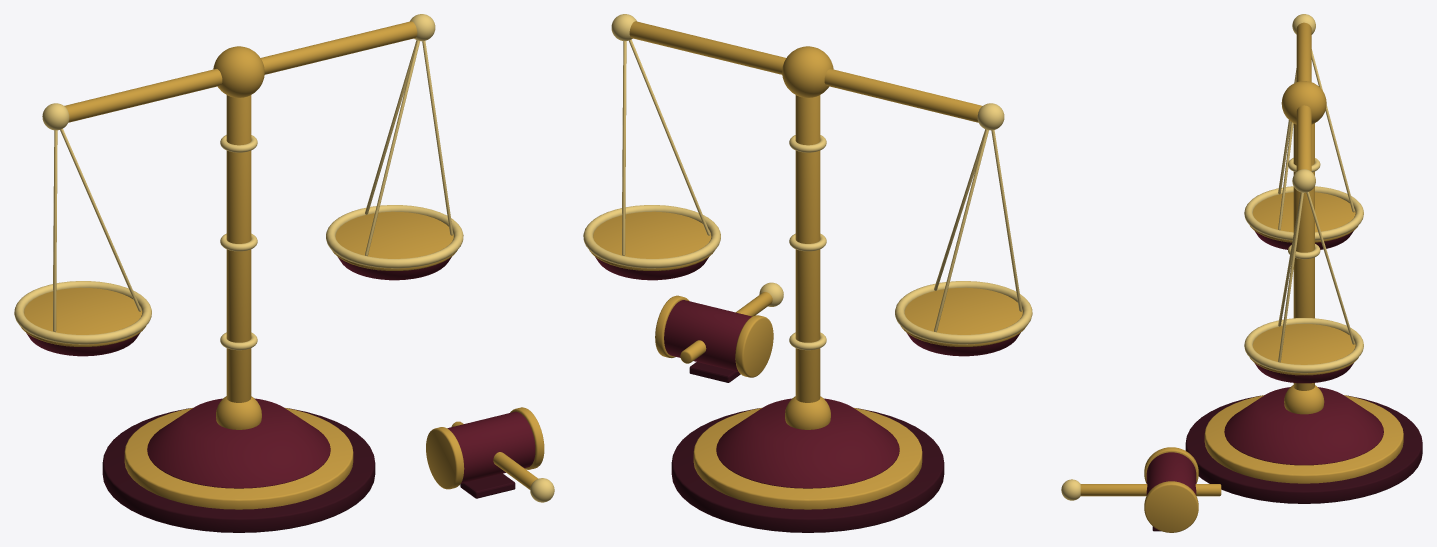
The model's file is legal.glb.
3 views of the same model, side by side, from view 1: azimuth 30°, elevation 25°; view 2: azimuth 150°, elevation 25°; view 3: azimuth 270°, elevation 25° (orthographic). The views are drawn at different scales.
Parts seen in each view (by area): view 1: Plinth, Base_Plate, Base_Ring, Column, Beam, Pan_1, Pan_-1, Gavel_Head, Pan_Rim_-1, Pan_Rim_1, Fulcrum, Gavel_Band_-0.17 (+11 smaller); view 2: Plinth, Base_Plate, Base_Ring, Column, Beam, Pan_1, Pan_-1, Gavel_Head, Pan_Rim_1, Pan_Rim_-1, Fulcrum, Gavel_Band_-0.17 (+12 smaller); view 3: Plinth, Base_Plate, Base_Ring, Pan_1, Column, Pan_-1, Gavel_Band_0.17, Pan_Rim_1, Beam, Pan_Rim_-1, Gavel_Head, Fulcrum (+8 smaller).
Part boxes in pixels (x1=…): Plinth: x1=147, y1=398, x2=330, y2=488; Base_Plate: x1=102, y1=408, x2=375, y2=532; Base_Ring: x1=124, y1=407, x2=353, y2=509; Column: x1=226, y1=95, x2=251, y2=402; Beam: x1=64, y1=21, x2=417, y2=122; Pan_1: x1=332, y1=211, x2=457, y2=270; Pan_-1: x1=20, y1=287, x2=145, y2=346; Gavel_Head: x1=447, y1=411, x2=535, y2=483; Pan_Rim_-1: x1=14, y1=281, x2=151, y2=344; Pan_Rim_1: x1=326, y1=205, x2=463, y2=268; Fulcrum: x1=213, y1=46, x2=264, y2=97; Gavel_Band_-0.17: x1=426, y1=427, x2=464, y2=489; Plinth: x1=716, y1=398, x2=899, y2=488; Base_Plate: x1=671, y1=408, x2=944, y2=532; Base_Ring: x1=693, y1=407, x2=922, y2=509; Column: x1=795, y1=95, x2=820, y2=402; Beam: x1=629, y1=21, x2=981, y2=122; Pan_1: x1=589, y1=211, x2=714, y2=270; Pan_-1: x1=901, y1=287, x2=1026, y2=346; Gavel_Head: x1=664, y1=300, x2=751, y2=371; Pan_Rim_1: x1=583, y1=205, x2=720, y2=268; Pan_Rim_-1: x1=895, y1=281, x2=1032, y2=344; Fulcrum: x1=782, y1=46, x2=833, y2=97; Gavel_Band_-0.17: x1=735, y1=315, x2=773, y2=377; Plinth: x1=1224, y1=387, x2=1383, y2=465; Base_Plate: x1=1185, y1=395, x2=1422, y2=503; Base_Ring: x1=1204, y1=395, x2=1403, y2=483; Pan_1: x1=1249, y1=324, x2=1358, y2=375; Column: x1=1293, y1=123, x2=1314, y2=390; Pan_-1: x1=1250, y1=192, x2=1358, y2=242; Gavel_Band_0.17: x1=1144, y1=481, x2=1198, y2=532; Pan_Rim_1: x1=1244, y1=318, x2=1363, y2=373; Beam: x1=1296, y1=22, x2=1311, y2=171; Pan_Rim_-1: x1=1244, y1=186, x2=1363, y2=240; Gavel_Head: x1=1146, y1=452, x2=1196, y2=495; Fulcrum: x1=1281, y1=81, x2=1326, y2=124.
Size of the model in its own units: 1.83 by 1.73 by 1.53.
